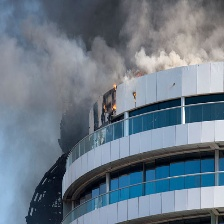fire: (103, 103, 108, 112), (112, 82, 119, 88), (112, 105, 117, 109), (133, 91, 136, 97)
smoke: (1, 1, 224, 97)
